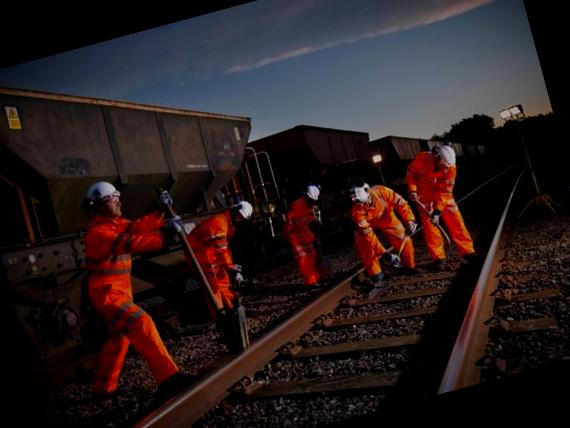helmet: (76, 174, 128, 212), (228, 196, 258, 226), (301, 180, 326, 204), (436, 144, 460, 168), (348, 184, 368, 208)
person: (43, 161, 214, 408), (333, 164, 432, 296), (396, 138, 488, 273), (180, 192, 280, 316), (266, 180, 348, 296)
